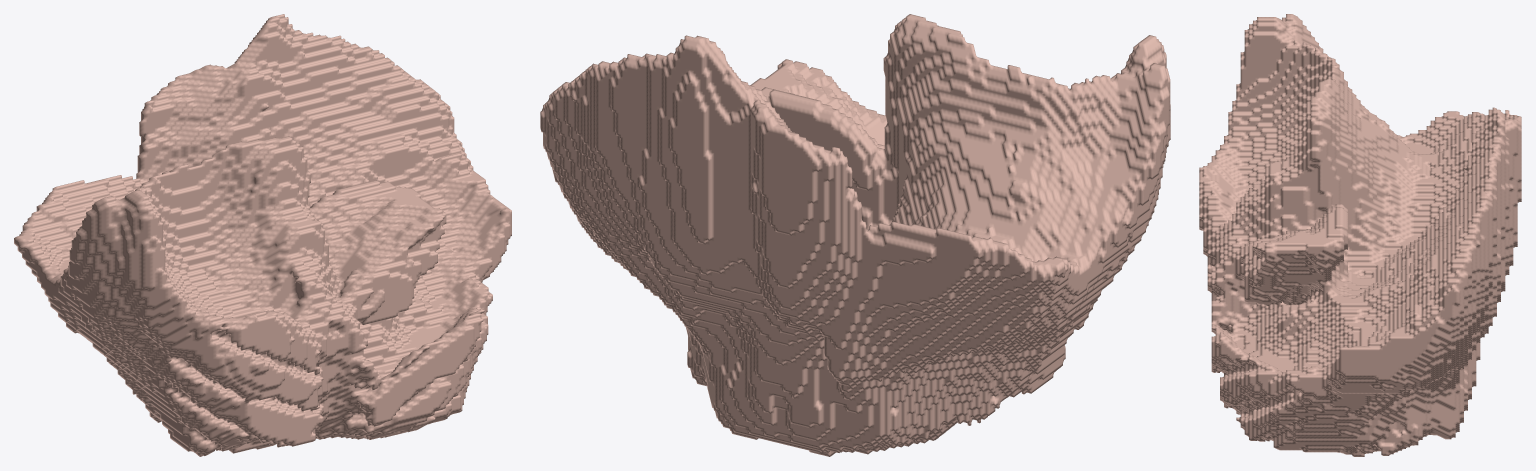
The model's file is region-18.glb.
The picture shows the model from 3 angles, left to right: view 1: azimuth 30°, elevation 25°; view 2: azimuth 150°, elevation 25°; view 3: azimuth 270°, elevation 25°; orthographic projection. The views are drawn at different scales.
Visible parts, largest first — view 1: digimouse-volume:18; view 2: digimouse-volume:18; view 3: digimouse-volume:18.
Part boxes in pixels (<box>): digimouse-volume:18: <box>14,14,511,456</box>; digimouse-volume:18: <box>540,14,1170,456</box>; digimouse-volume:18: <box>1199,14,1521,456</box>.
Size of the model in its own units: 0.024 by 0.0184 by 0.0156.
